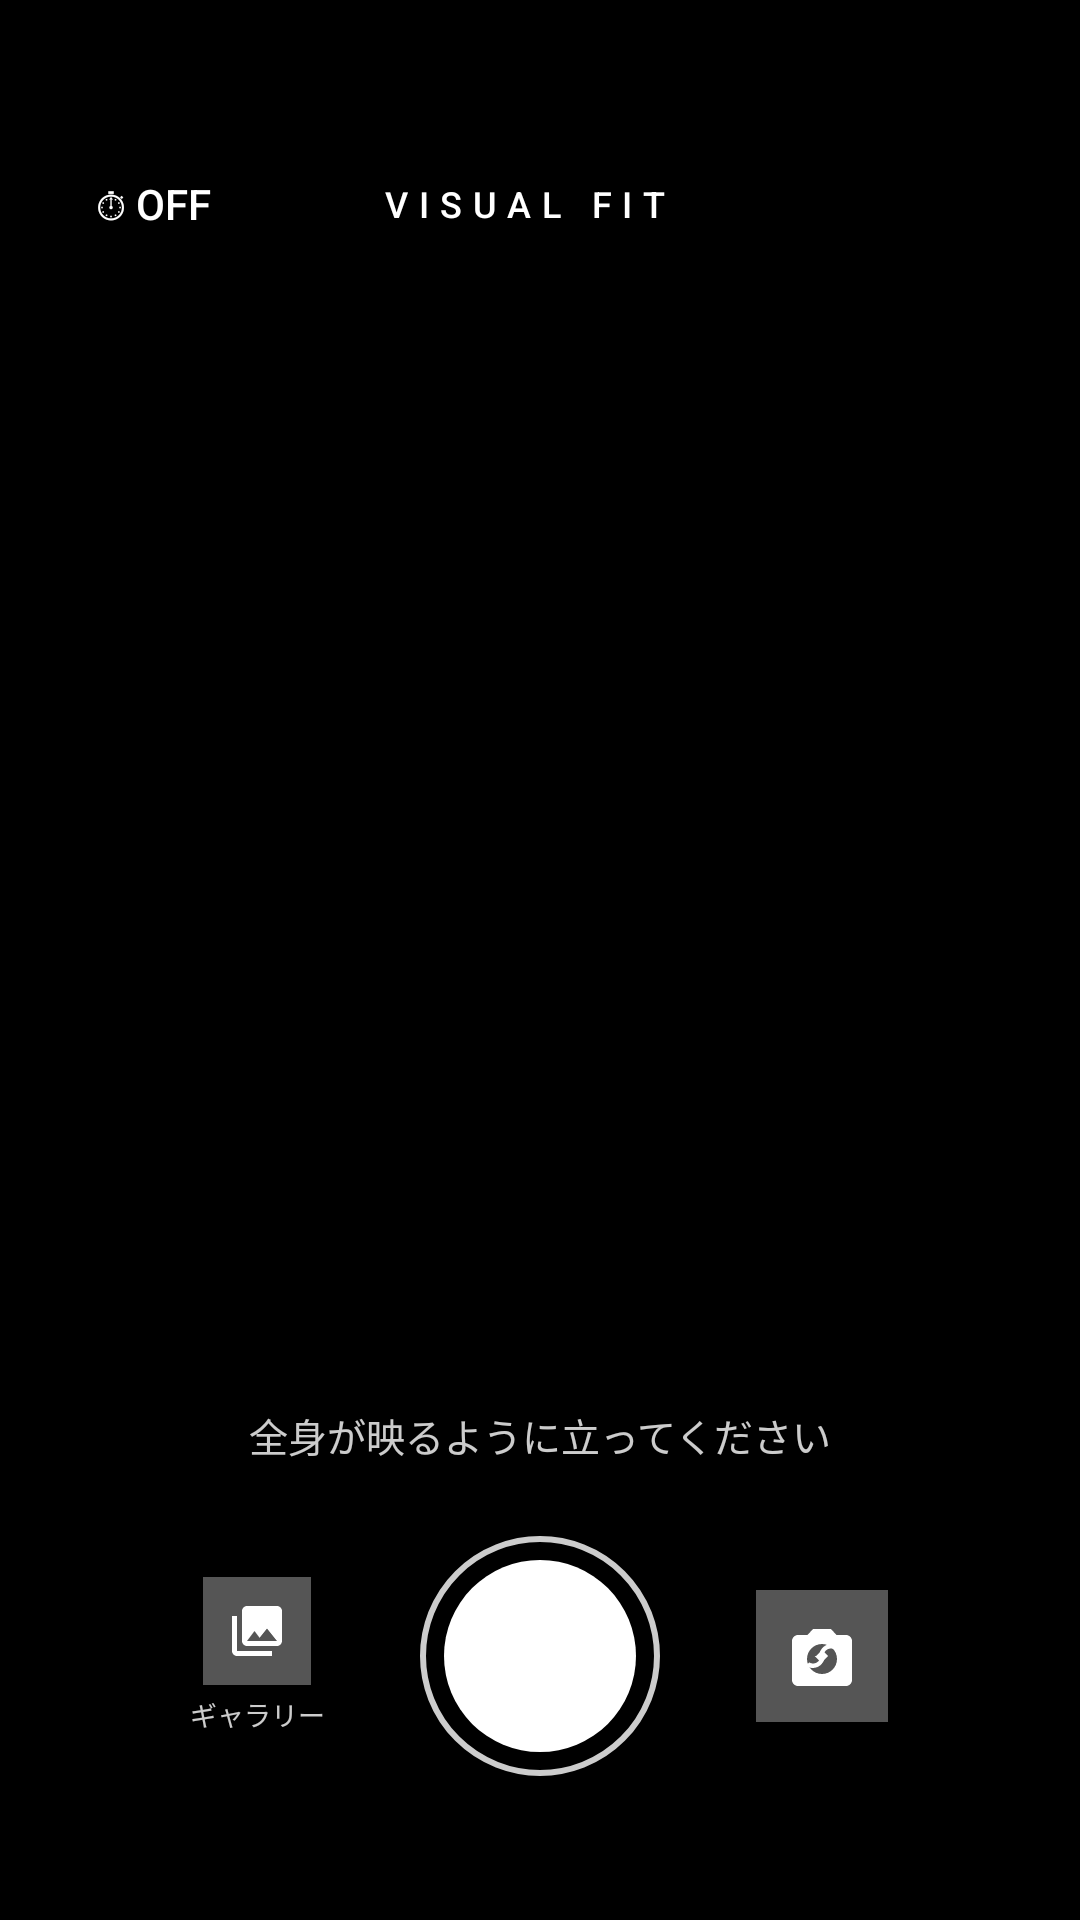

Named icons in this screenshot (1080×1920) and their bounding boxes, (x1, y1, x2, y2):
flip camera: (756, 1590, 888, 1722)
